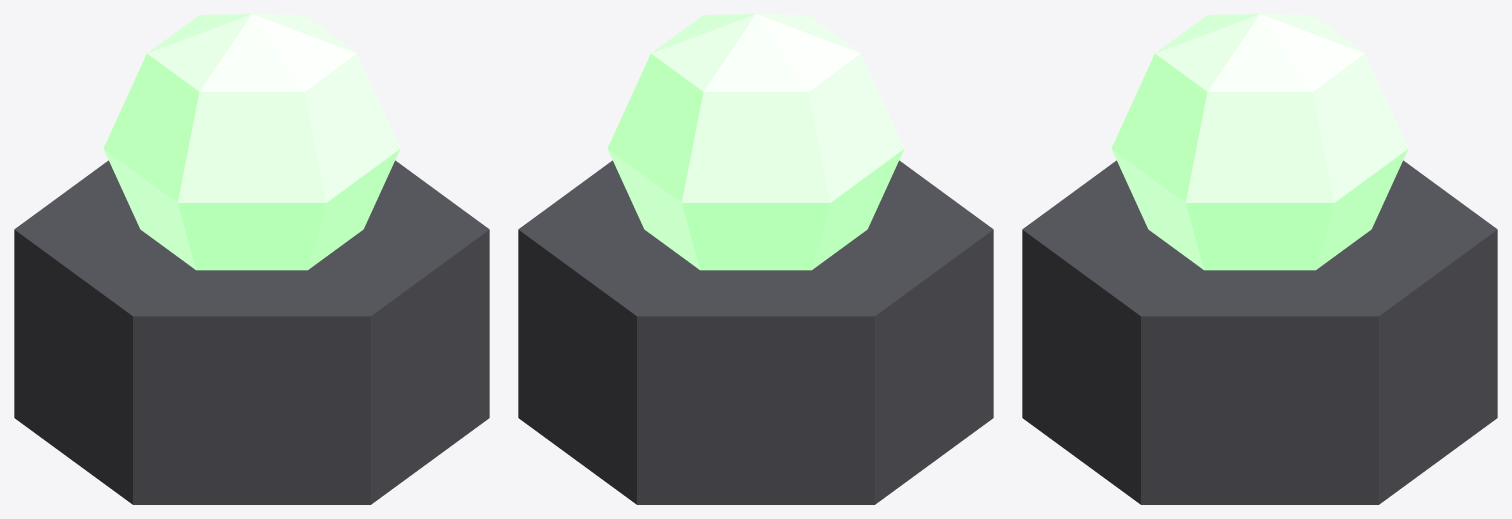
The model's file is tower_poison_lod1.glb.
3 renders of one model, left to right at view 1: azimuth 30°, elevation 25°; view 2: azimuth 150°, elevation 25°; view 3: azimuth 270°, elevation 25°, orthographic.
Visible parts, largest first — view 1: tower_poison_lod1; view 2: tower_poison_lod1; view 3: tower_poison_lod1.
Boxes of the visible parts, box(x1,y1,x2,y2) form: tower_poison_lod1: box(14, 14, 489, 504); tower_poison_lod1: box(518, 14, 993, 504); tower_poison_lod1: box(1022, 14, 1497, 504).
Size of the model in its own units: 0.6928 by 0.75 by 0.8.
